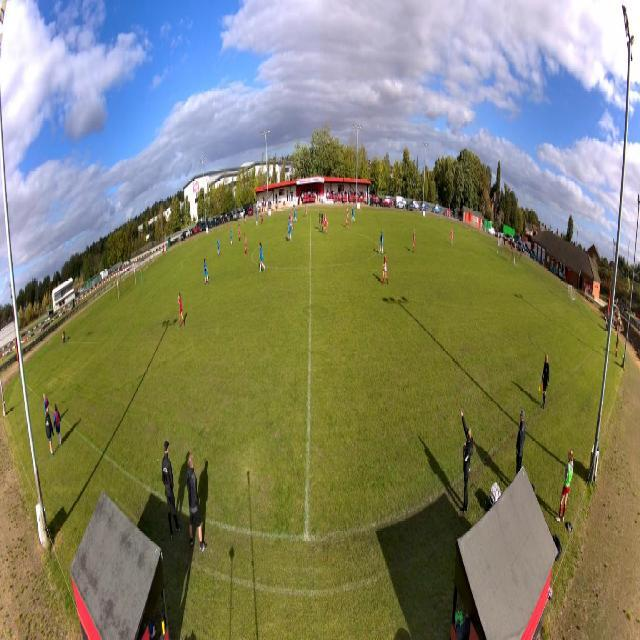player: (177, 292, 185, 329), (382, 251, 389, 286), (259, 242, 266, 273), (286, 218, 292, 242), (204, 257, 209, 285), (379, 229, 384, 256), (323, 213, 328, 234), (412, 229, 416, 255), (289, 212, 294, 231), (350, 205, 355, 223), (244, 233, 248, 255), (320, 210, 324, 231), (346, 208, 350, 229), (217, 237, 221, 257), (293, 207, 297, 224), (238, 224, 242, 241), (140, 268, 144, 285), (230, 226, 233, 246), (304, 204, 308, 218), (450, 227, 453, 245), (255, 212, 258, 226), (260, 214, 263, 225)
